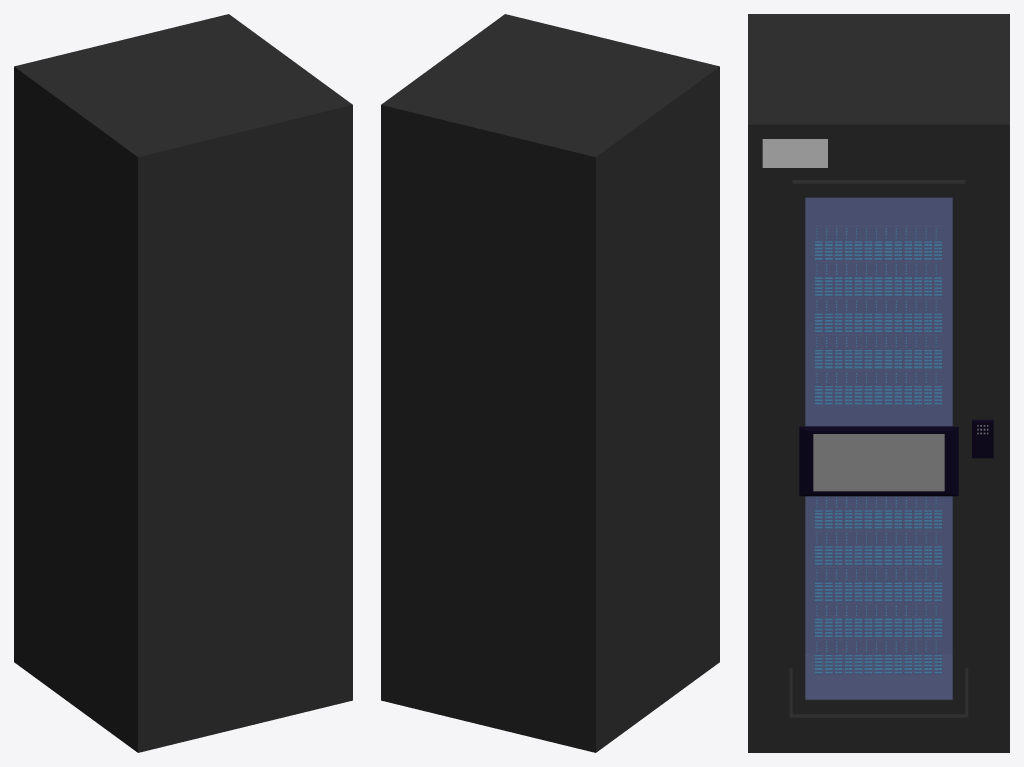
The model's file is datacenter-rack-configurator.glb.
3 renders of one model, left to right at view 1: azimuth 30°, elevation 25°; view 2: azimuth 150°, elevation 25°; view 3: azimuth 270°, elevation 25°, orthographic. The views are drawn at different scales.
Parts seen in each view (by area): view 1: left-side-rack, server-rack-01; view 2: right-side-rack, server-rack-01; view 3: server-rack-01, server-rack-glass-window01, servers.001, server-rack-panel.001, logo-rack, base-access.001.
Boxes of the visible parts, bbox=[...] form: left-side-rack: bbox=[138, 105, 352, 752]; server-rack-01: bbox=[14, 14, 352, 752]; right-side-rack: bbox=[381, 105, 595, 752]; server-rack-01: bbox=[381, 14, 719, 752]; server-rack-01: bbox=[748, 14, 1009, 752]; server-rack-glass-window01: bbox=[805, 197, 952, 699]; servers.001: bbox=[815, 225, 941, 674]; server-rack-panel.001: bbox=[799, 426, 958, 496]; logo-rack: bbox=[762, 139, 827, 167]; base-access.001: bbox=[972, 419, 993, 458].
Size of the model in its own units: 2.02 by 5.3 by 2.
